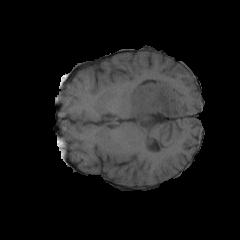glioma: (129, 79, 177, 138)
